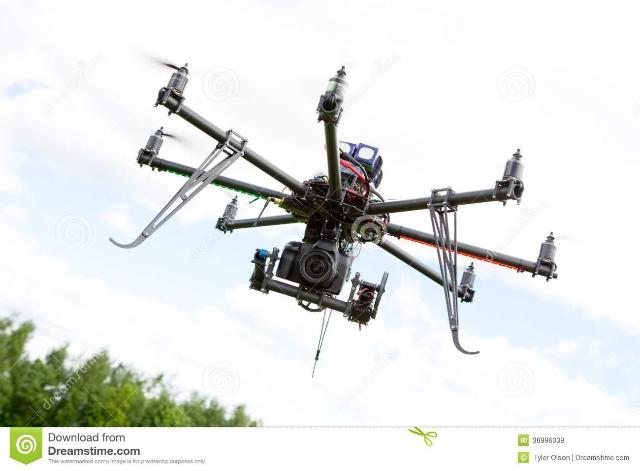drone: (111, 57, 561, 371)
